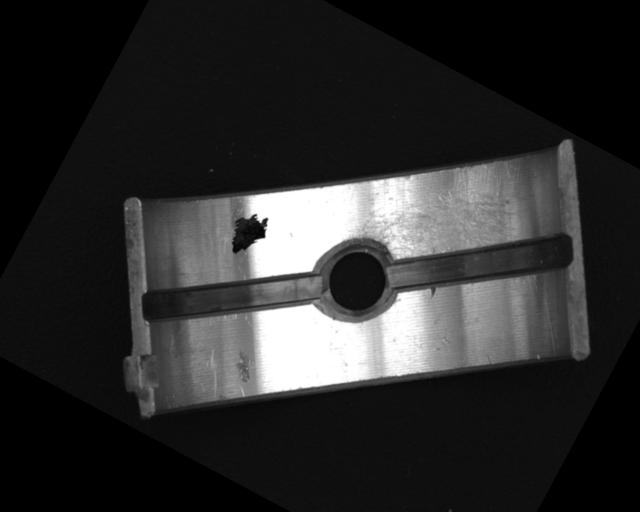blot: (219, 204, 274, 264)
bruise: (223, 345, 262, 385), (425, 284, 439, 299)
gap: (380, 169, 579, 355), (135, 209, 323, 383)
hole: (303, 227, 408, 332)
scratch: (346, 125, 536, 309)
